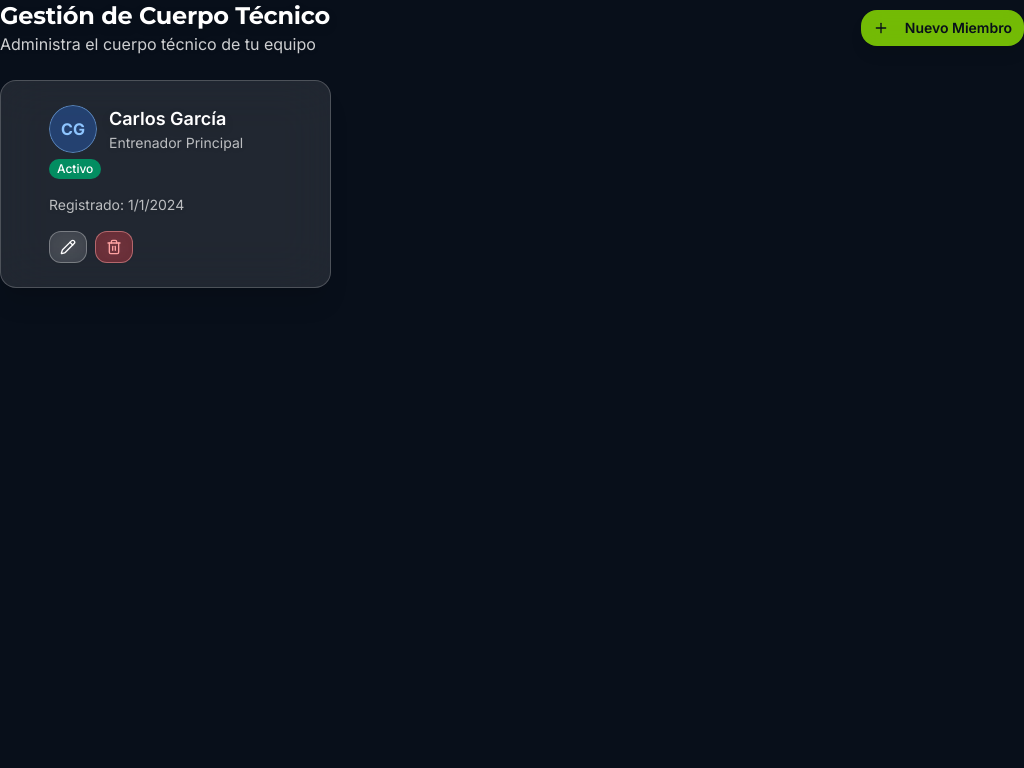
Test: CoachingStaffPage › creates a member for this team with an RFC 3339 birth date, closes the form and reloads
Click the button "Nuevo Miembro".
click(942, 28)  # box [861,10,1023,46]
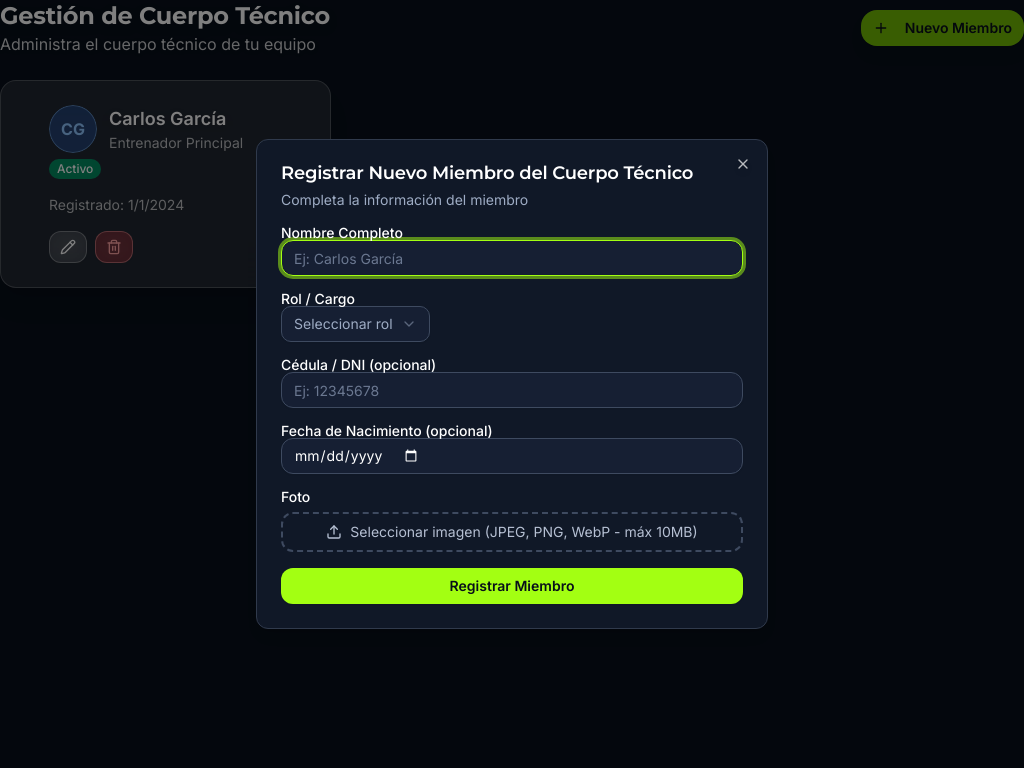
Type "Ana Ruiz" into the field labelled "Nombre Completo".
click(512, 258); type("Ana Ruiz")  # box [281,240,743,276]
Click the dropdown named "Rol / Cargo".
click(355, 324)  # box [281,306,430,342]
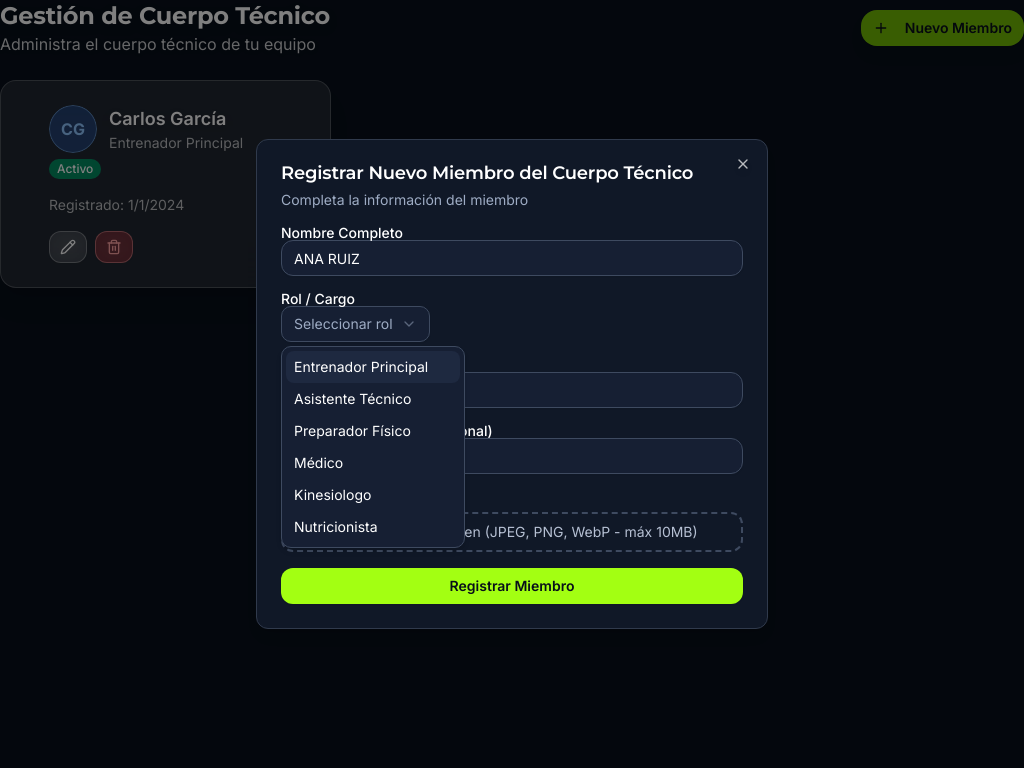
Click the option "Médico".
click(319, 462)  # box [294,454,343,471]
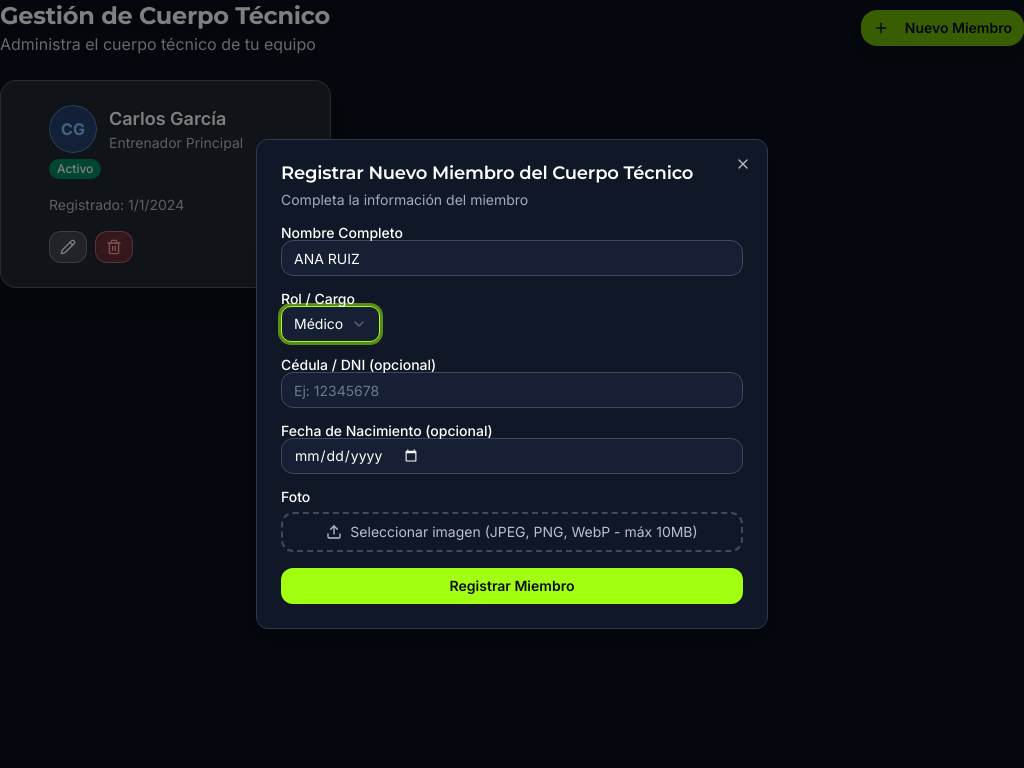
Type "12345678" into the field labelled "Cédula / DNI (opcional)".
click(512, 390); type("12345678")  # box [281,372,743,408]
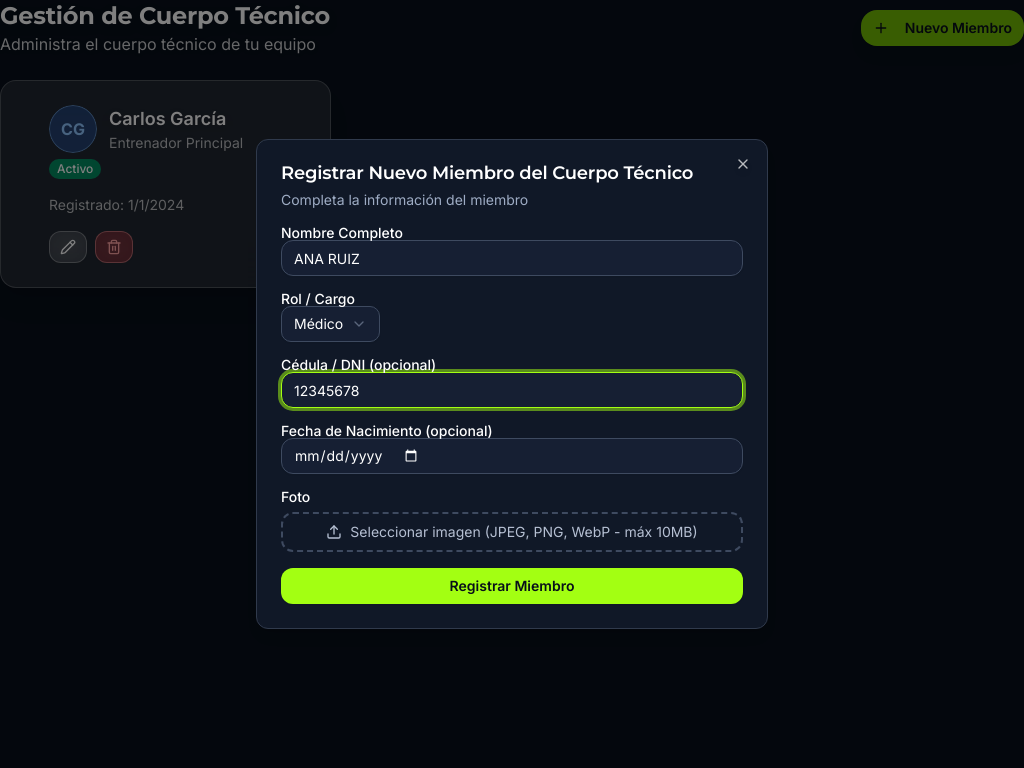
Type "1985-02-03" into the date field labelled "Fecha de Nacimiento (opcional)".
click(512, 456); type("1985-02-03")  # box [281,438,743,474]
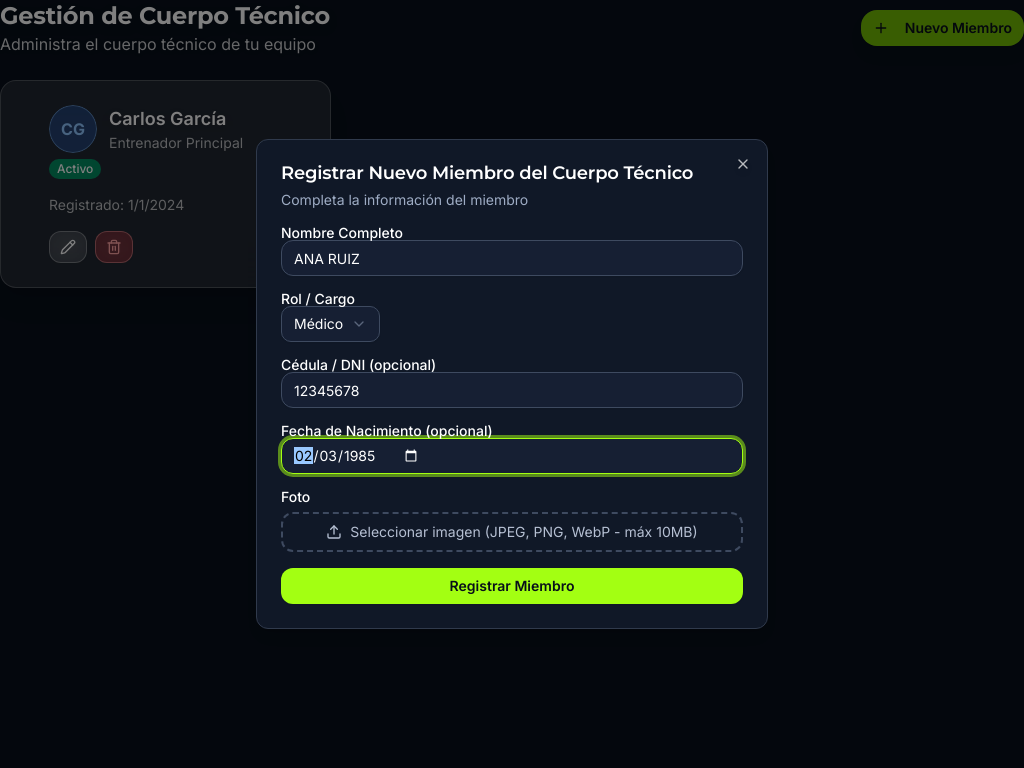
Click the button "Registrar Miembro".
click(512, 586)  # box [281,568,743,604]
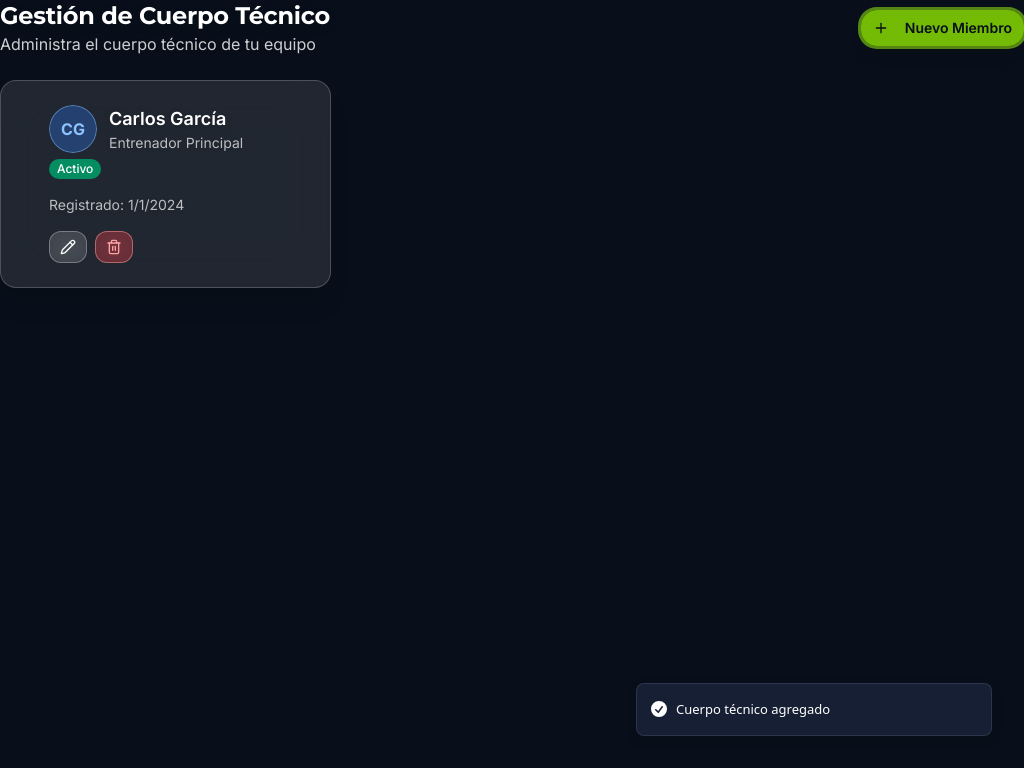
expect the text "Cuerpo técnico agregado" is shown: met, box [676,700,830,719]
expect the dialog is gone: met
